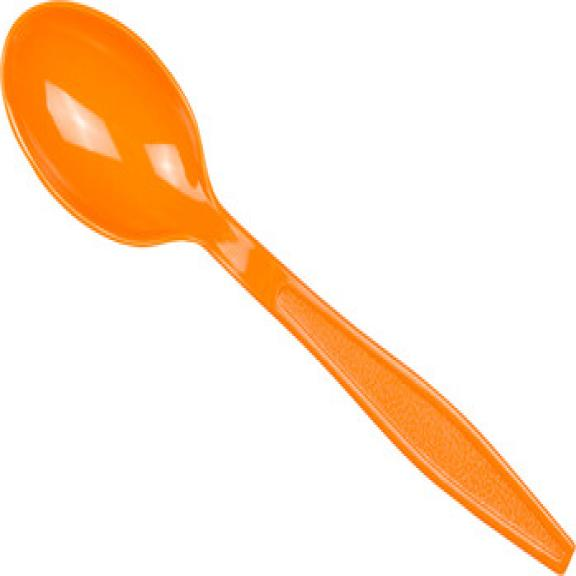Plastik: (2, 3, 572, 571)
